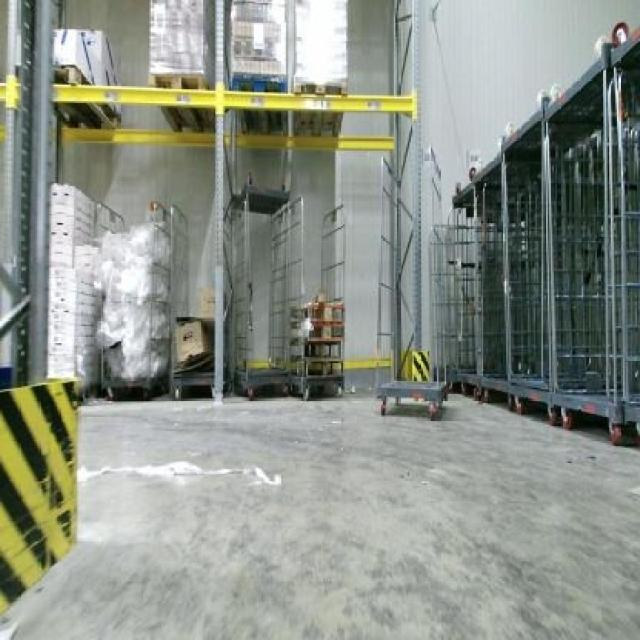floor: (0, 392, 637, 637)
pallets: (440, 35, 637, 438), (0, 378, 74, 608)
